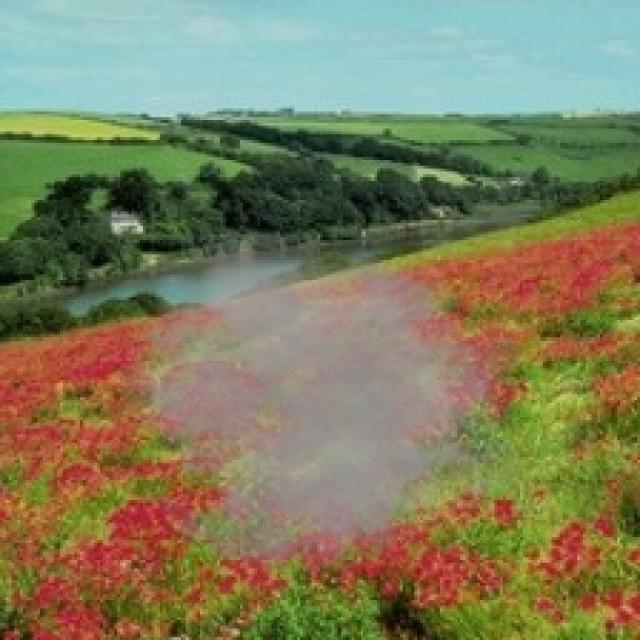Smoke: (111, 235, 532, 600)
